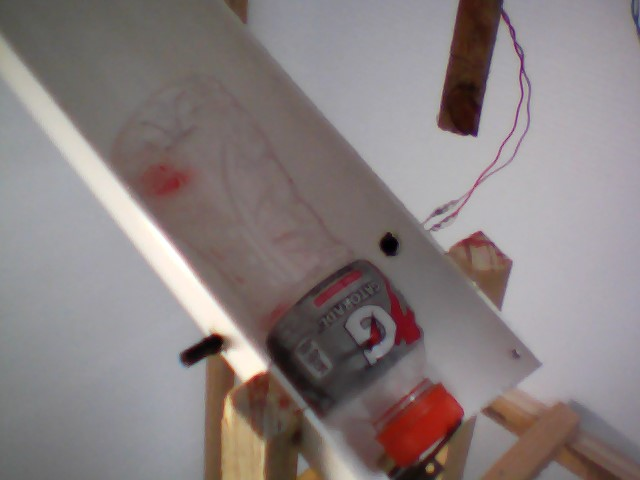plastico: (96, 68, 469, 472)
